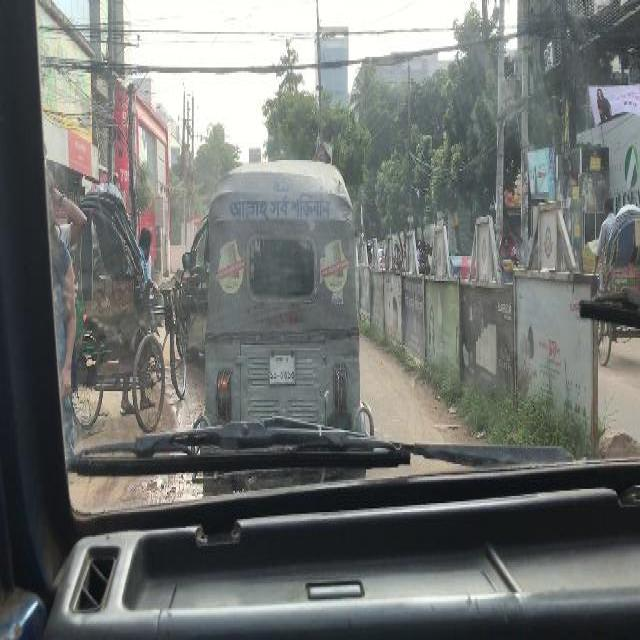vehicle: (206, 167, 376, 482), (72, 195, 186, 433), (595, 204, 640, 370), (178, 216, 212, 358), (498, 233, 522, 281)
